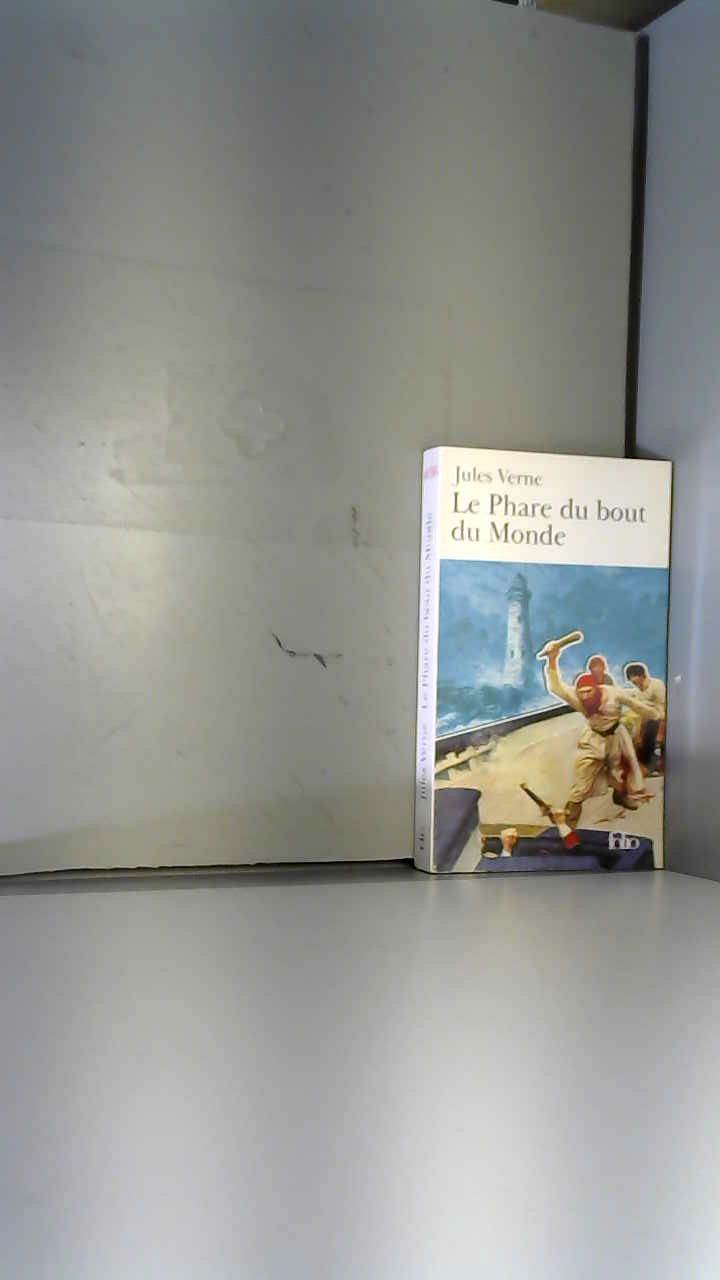book: (402, 432, 684, 893)
